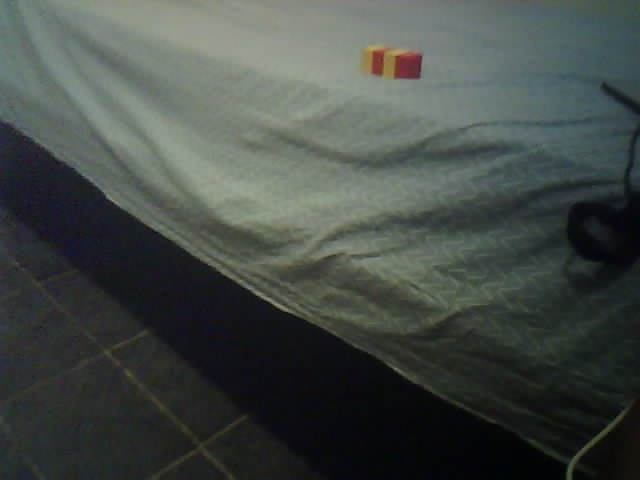lego: (360, 44, 424, 82)
